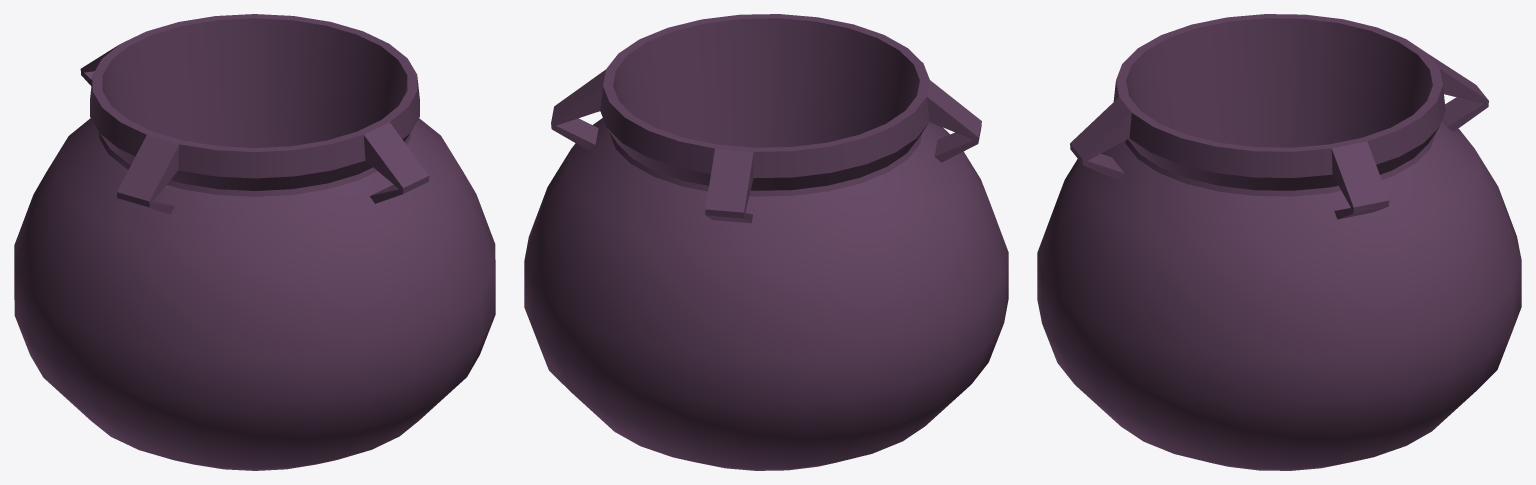
File: Cauldron.fbx
3 views of the same model, side by side, from view 1: azimuth 30°, elevation 25°; view 2: azimuth 150°, elevation 25°; view 3: azimuth 270°, elevation 25° (orthographic).
Visible parts, largest first — view 1: Cylinder.010; view 2: Cylinder.010; view 3: Cylinder.010.
Part boxes in pixels (x1,y1,x2,y2): Cylinder.010: [14, 14, 495, 470]; Cylinder.010: [524, 14, 1008, 470]; Cylinder.010: [1037, 14, 1521, 470].
Bounding box in the file's own units: 368 × 280 × 369.
